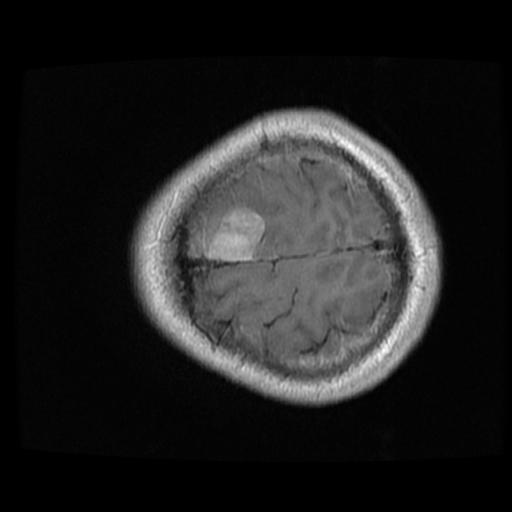meningioma: (205, 206, 265, 263)
